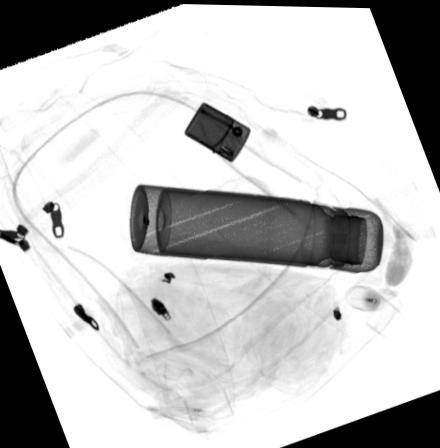Lighter: (183, 100, 251, 162)
